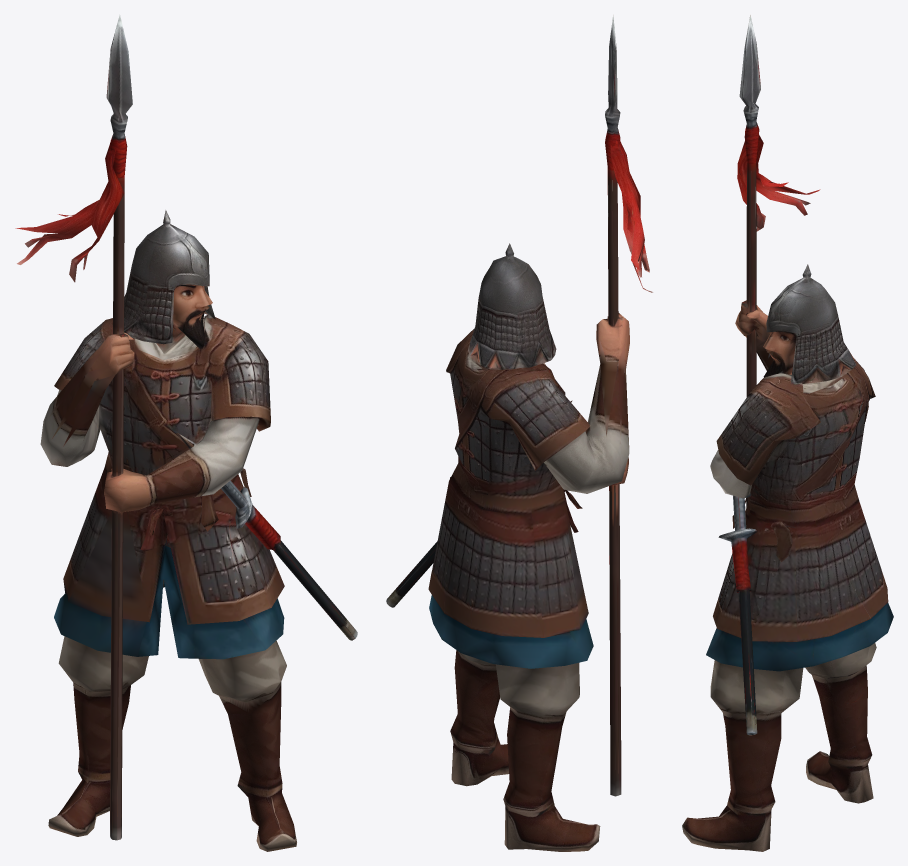
The model's file is shibing_a_c.glb.
3 renders of one model, left to right at view 1: azimuth 30°, elevation 25°; view 2: azimuth 150°, elevation 25°; view 3: azimuth 270°, elevation 25°, orthographic. The views are drawn at different scales.
Parts seen in each view (by area): view 1: Mesh_0; view 2: Mesh_0; view 3: Mesh_0.
Part boxes in pixels (x1,y1,x2,y2): Mesh_0: (15, 14, 357, 851); Mesh_0: (386, 15, 652, 851); Mesh_0: (682, 15, 893, 851).
Bounding box in the file's own units: 0.3677 × 0.9541 × 0.2392.
Materials: 1 (1 with a texture image).
